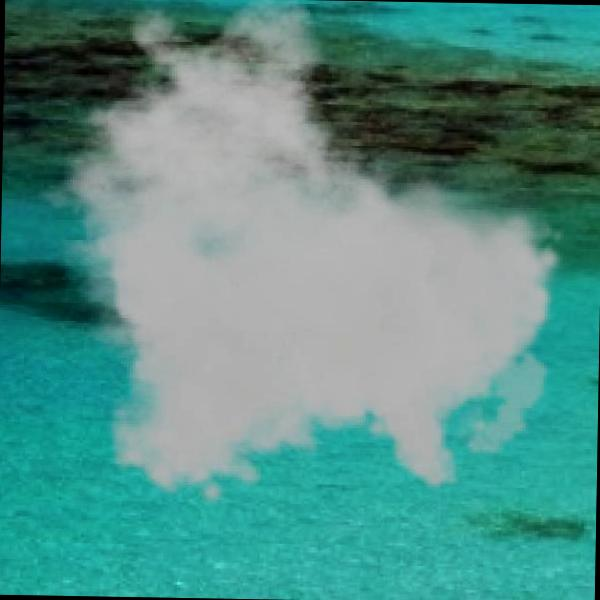smoke: (12, 0, 570, 515)
